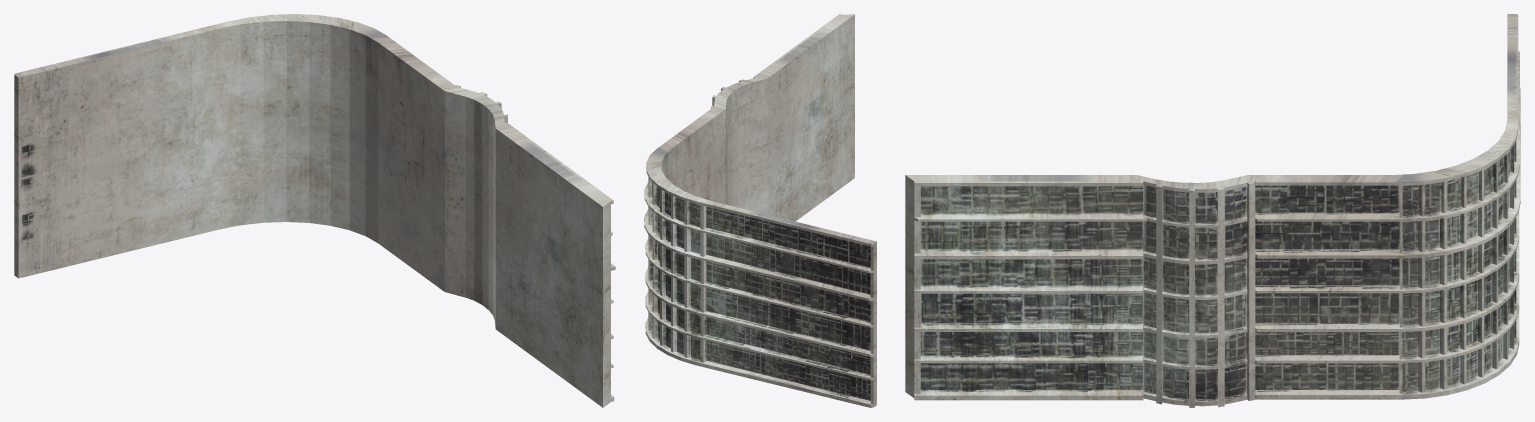
The model's file is building05.fbx.
3 views of the same model, side by side, from view 1: azimuth 30°, elevation 25°; view 2: azimuth 150°, elevation 25°; view 3: azimuth 270°, elevation 25° (orthographic). The views are drawn at different scales.
Visible parts, largest first — view 1: building05; view 2: building05; view 3: building05.
Part boxes in pixels (bbox=[...]): building05: bbox=[14, 14, 615, 407]; building05: bbox=[644, 14, 876, 407]; building05: bbox=[905, 14, 1520, 407].
Bounding box in the file's own units: 28.35 × 16.2 × 41.63.
Materials: 1 (1 with a texture image).
